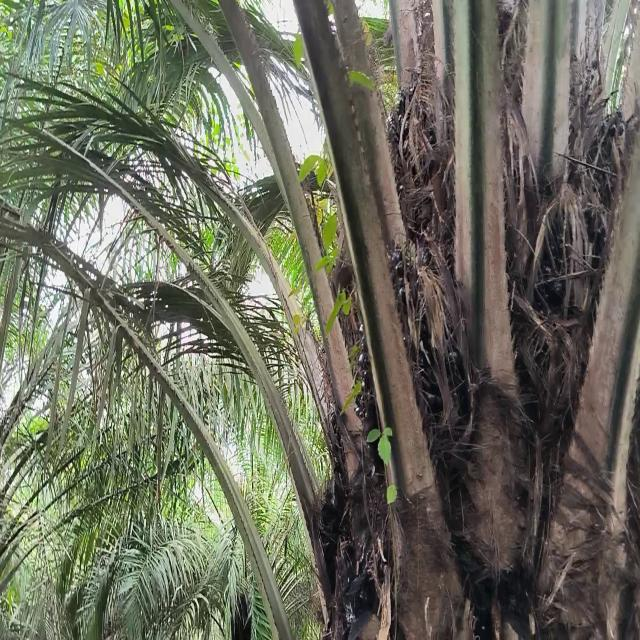palm-oil: (351, 246, 460, 516)
